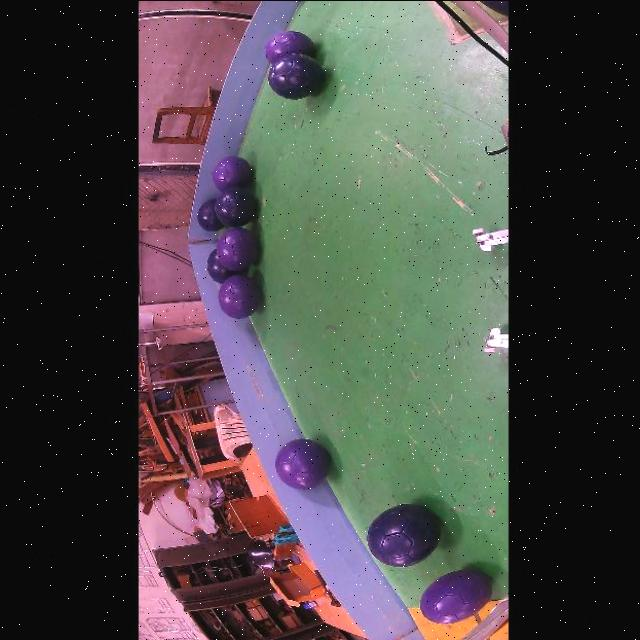B: (367, 503, 440, 566), (268, 51, 323, 98), (214, 185, 256, 226), (206, 248, 242, 283), (197, 198, 224, 232), (479, 0, 507, 15)
P: (419, 568, 491, 624), (275, 437, 329, 489), (217, 274, 260, 318), (216, 226, 257, 270), (264, 30, 314, 62), (212, 156, 251, 190)
